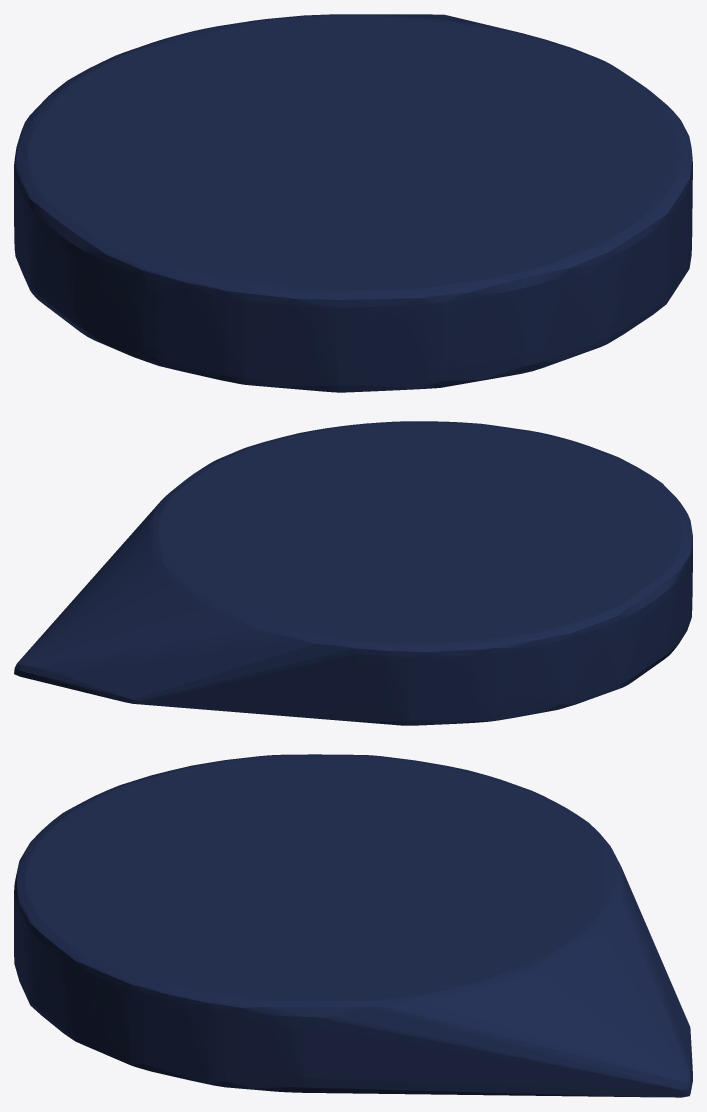
File: right_hip_pitch_link_part_21.obj
3 renders of one model, top to bottom at view 1: azimuth 30°, elevation 25°; view 2: azimuth 150°, elevation 25°; view 3: azimuth 270°, elevation 25°, orthographic. The views are drawn at different scales.
Size of the model in its own units: 0.1097 by 0.0177 by 0.1212.
